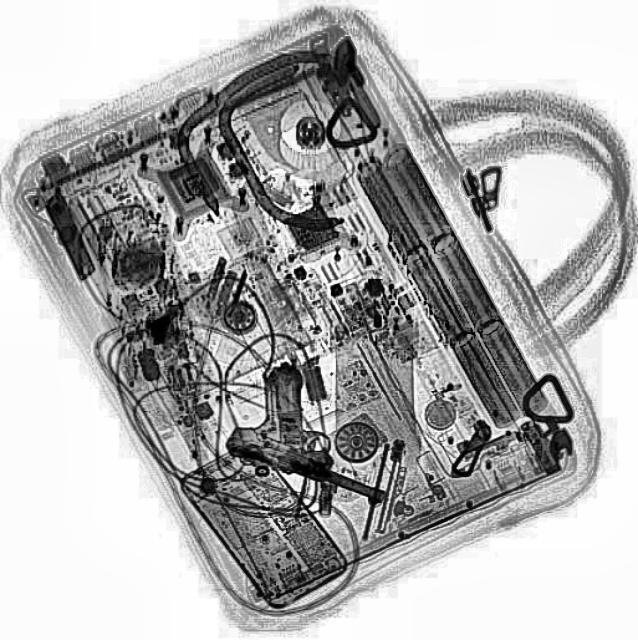Gun: (224, 356, 419, 504)
